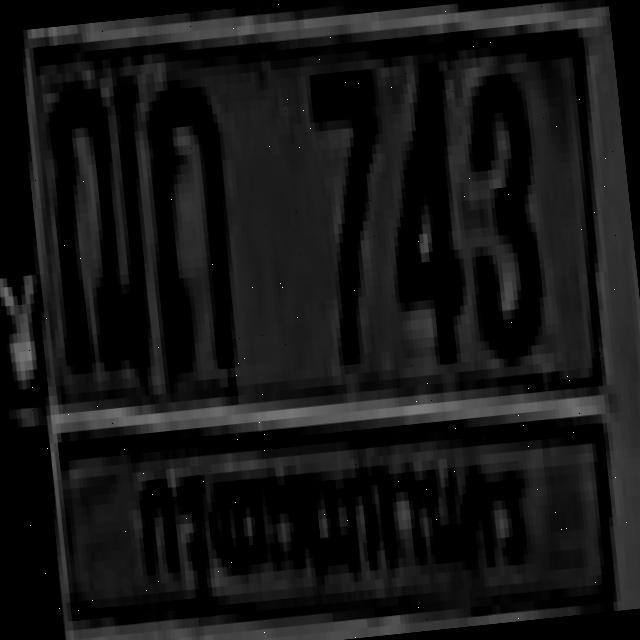21ChorChoe: (34, 62, 160, 370)
3: (452, 62, 548, 350)
31ThorThung: (132, 67, 238, 365)
4: (370, 48, 468, 354)
7: (304, 60, 397, 356)
Bangkok: (121, 408, 540, 634)
